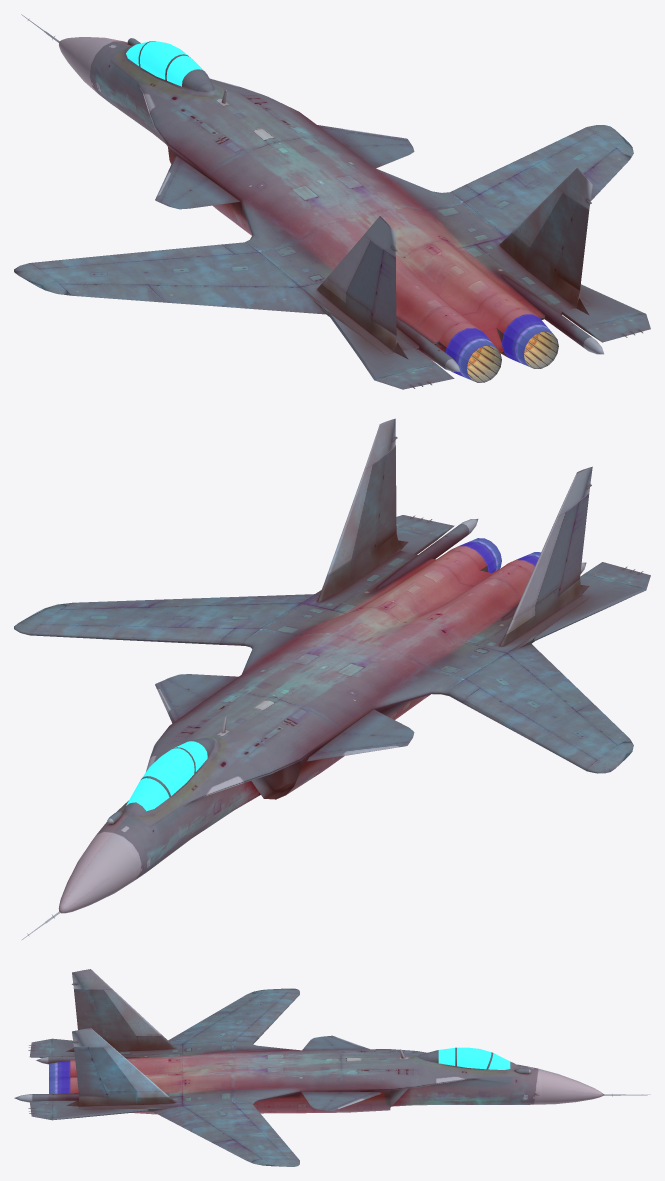
3 renders of one model, top to bottom at view 1: azimuth 30°, elevation 25°; view 2: azimuth 150°, elevation 25°; view 3: azimuth 270°, elevation 25°, orthographic. The views are drawn at different scales.
Visible parts, largest first — view 1: SU-47_LOD0, SU-47_FlapL01, SU-47_ElevatorL01, SU-47_ElevatorR01, SU-47_CanardL01, SU-47_EngineR01, SU-47_EngineL01, SU-47_CanardR01, SU-47_Glass01, SU-47_RudderR01, SU-47_RudderL01, SU-47_AileronL01 (+3 smaller); view 2: SU-47_LOD0, SU-47_ElevatorL01, SU-47_Glass01, SU-47_CanardL01, SU-47_CanardR01, SU-47_FlapL01, SU-47_VoletR01, SU-47_VoletL01, SU-47_ElevatorR01, SU-47_RudderR01, SU-47_RudderL01, SU-47_FlapR01 (+1 smaller); view 3: SU-47_LOD0, SU-47_ElevatorR01, SU-47_Glass01, SU-47_FlapR01, SU-47_RudderR01, SU-47_CanardR01, SU-47_RudderL01, SU-47_ElevatorL01, SU-47_CanardL01, SU-47_FlapL01, SU-47_VoletL01, SU-47_VoletR01 (+4 smaller).
Part boxes in pixels (<box>): SU-47_LOD0: <box>14,14,633,371</box>; SU-47_FlapL01: <box>148,285,325,314</box>; SU-47_ElevatorL01: <box>328,313,454,389</box>; SU-47_ElevatorR01: <box>562,284,650,342</box>; SU-47_CanardL01: <box>155,156,240,209</box>; SU-47_EngineR01: <box>502,314,558,368</box>; SU-47_EngineL01: <box>445,328,501,382</box>; SU-47_CanardR01: <box>317,125,414,168</box>; SU-47_Glass01: <box>126,41,203,86</box>; SU-47_RudderR01: <box>554,202,589,290</box>; SU-47_RudderL01: <box>371,249,396,335</box>; SU-47_AileronL01: <box>59,283,164,302</box>; SU-47_LOD0: <box>14,418,633,940</box>; SU-47_ElevatorL01: <box>533,562,650,640</box>; SU-47_Glass01: <box>126,741,207,811</box>; SU-47_CanardL01: <box>307,709,414,761</box>; SU-47_CanardR01: <box>155,674,238,723</box>; SU-47_FlapL01: <box>507,644,593,711</box>; SU-47_VoletR01: <box>107,625,234,644</box>; SU-47_VoletL01: <box>464,688,548,743</box>; SU-47_ElevatorR01: <box>396,515,454,554</box>; SU-47_RudderR01: <box>375,446,396,550</box>; SU-47_RudderL01: <box>558,493,589,595</box>; SU-47_FlapR01: <box>148,594,314,606</box>; SU-47_LOD0: <box>14,969,650,1166</box>; SU-47_ElevatorR01: <box>28,1100,148,1120</box>; SU-47_Glass01: <box>438,1047,510,1069</box>; SU-47_FlapR01: <box>152,1106,232,1142</box>; SU-47_RudderR01: <box>74,1046,107,1096</box>; SU-47_CanardR01: <box>301,1091,381,1111</box>; SU-47_RudderL01: <box>74,988,107,1041</box>; SU-47_ElevatorL01: <box>28,1038,74,1057</box>; SU-47_CanardL01: <box>302,1035,369,1050</box>; SU-47_FlapL01: <box>168,1011,232,1044</box>; SU-47_VoletL01: <box>239,1010,282,1038</box>; SU-47_VoletR01: <box>240,1109,281,1139</box>.
Bounding box in the file's own units: 16.34 × 4.53 × 24.66.
Materials: 4 (4 with a texture image).
